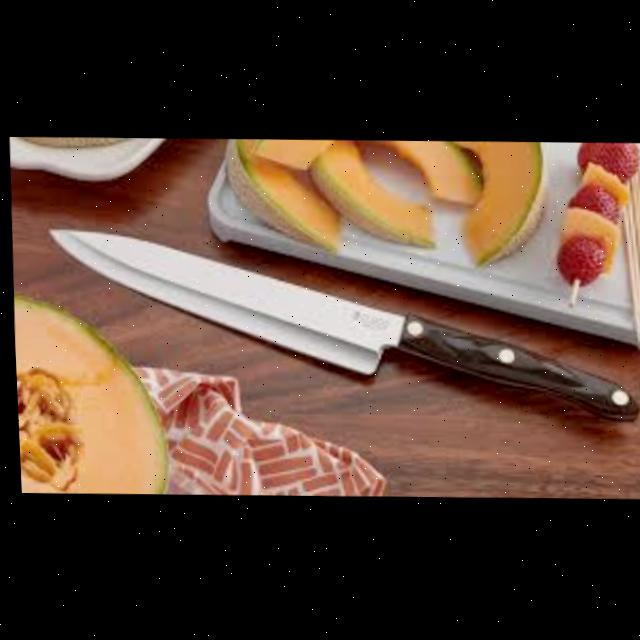Knife: (41, 222, 637, 426)
